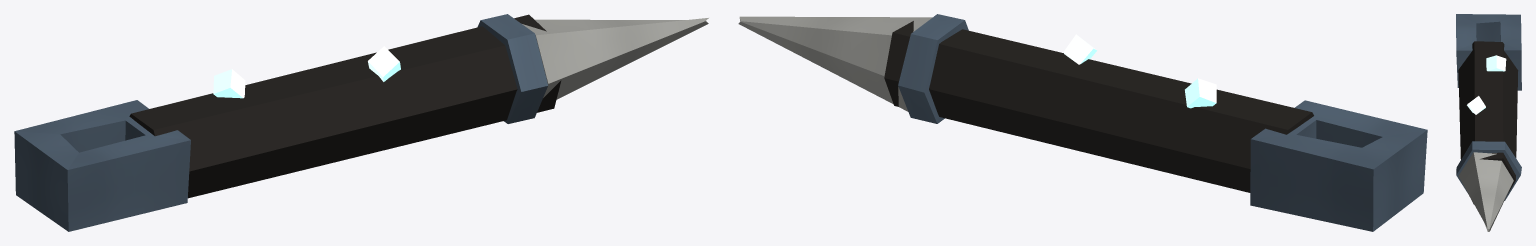
Rendered from needle_cosmic.glb.
3 renders of one model, left to right at view 1: azimuth 30°, elevation 25°; view 2: azimuth 150°, elevation 25°; view 3: azimuth 270°, elevation 25°, orthographic. The views are drawn at different scales.
Visible parts, largest first — view 1: NeedleCosmic; view 2: NeedleCosmic; view 3: NeedleCosmic.
Part boxes in pixels (bbox=[...]): NeedleCosmic: bbox=[14, 14, 708, 231]; NeedleCosmic: bbox=[738, 14, 1427, 231]; NeedleCosmic: bbox=[1456, 14, 1521, 231].
Bounding box in the file's own units: 0.3368 × 0.05 × 0.0477.
Materials: 4 (2 with a texture image).
